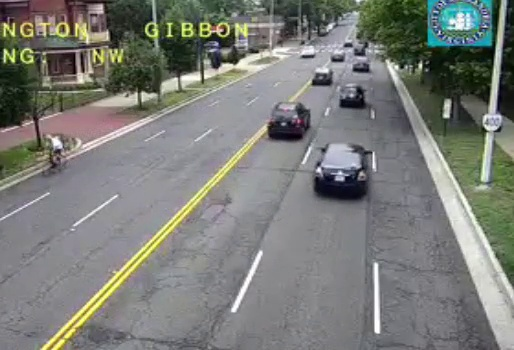car: (315, 143, 368, 191), (268, 103, 309, 138), (338, 84, 365, 107), (312, 68, 333, 86)
